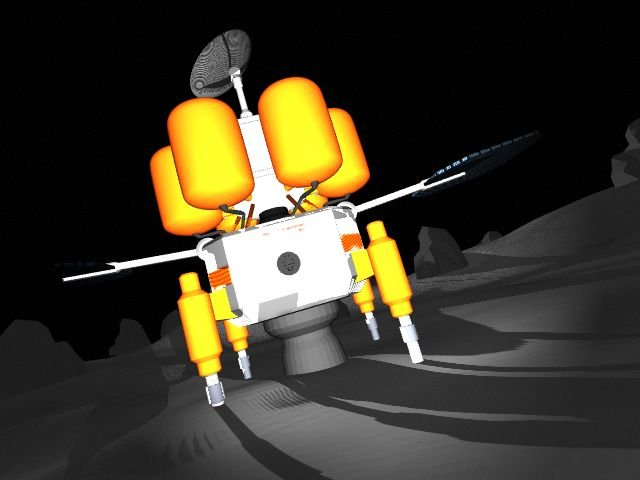homebase: (1, 28, 552, 409)
